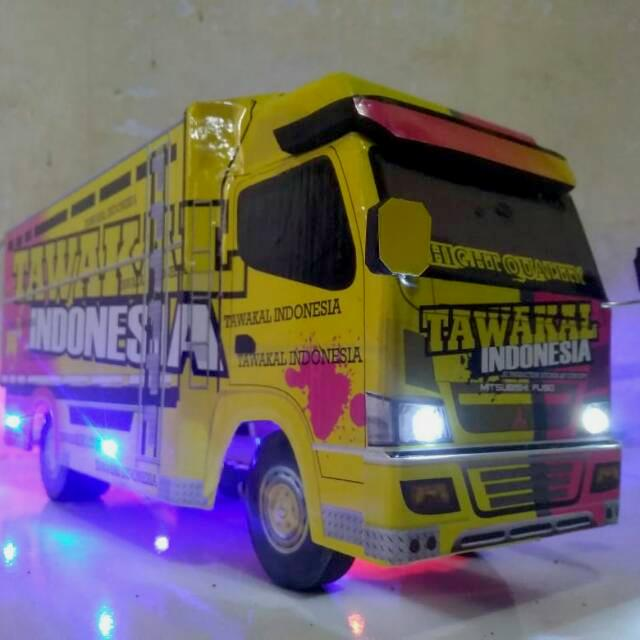truck: (1, 82, 623, 592)
